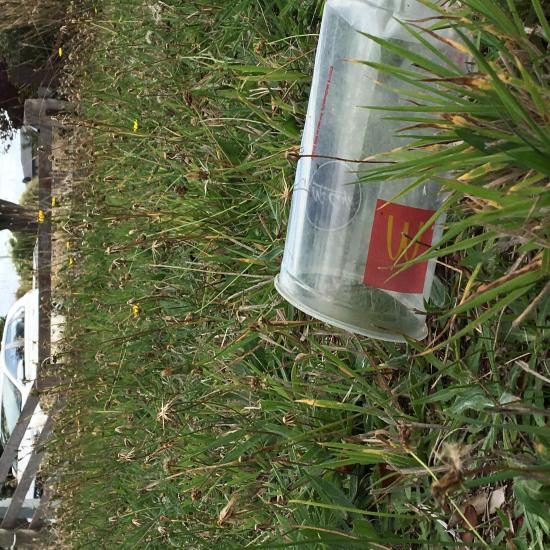Cigarette: (235, 148, 252, 159)
Plastic film: (170, 384, 235, 494)
Unlabeled litter: (224, 341, 241, 378), (218, 431, 220, 440)
